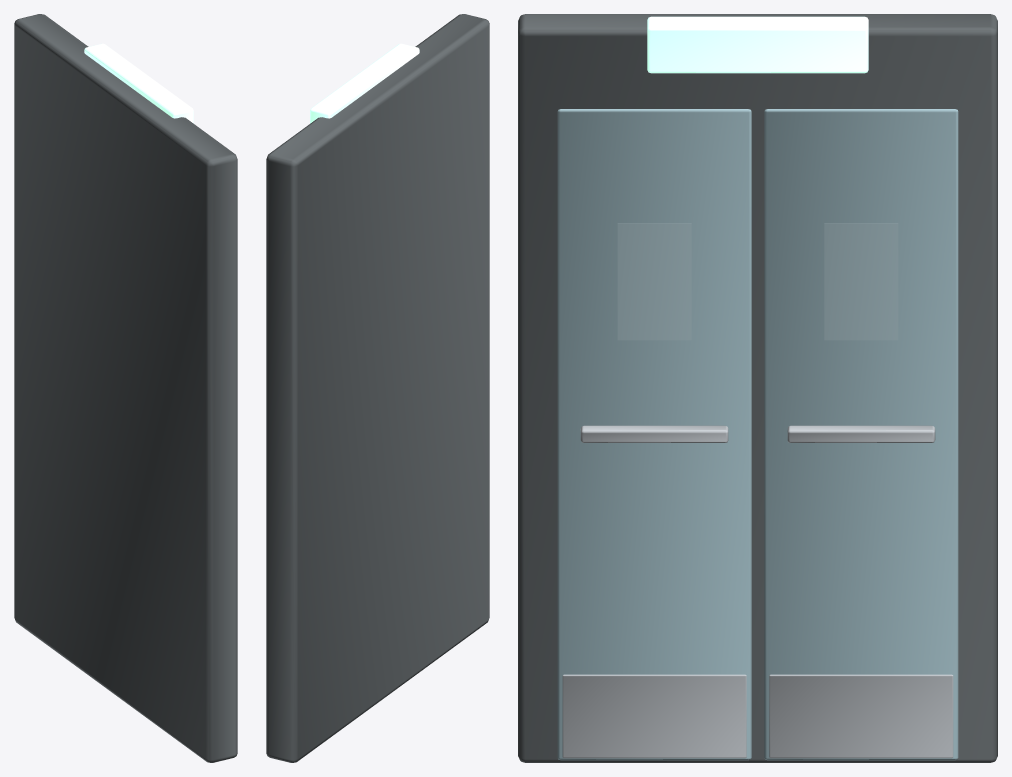
File: puerta.glb
The picture shows the model from 3 angles, left to right: view 1: azimuth 30°, elevation 25°; view 2: azimuth 150°, elevation 25°; view 3: azimuth 270°, elevation 25°; orthographic projection. The views are drawn at different scales.
Parts seen in each view (by area): view 1: marco, cartel_luz; view 2: marco, cartel_luz; view 3: hoja_d_cuerpo, hoja_i_cuerpo, marco, hoja_d_patada, hoja_i_patada, cartel_luz, hoja_d_vidrio, hoja_i_vidrio, hoja_d_barra, hoja_i_barra.
Part boxes in pixels (<box>): marco: <box>14,14,237,762</box>; cartel_luz: <box>84,43,193,123</box>; marco: <box>266,14,489,762</box>; cartel_luz: <box>310,43,419,123</box>; hoja_d_cuerpo: <box>764,109,958,760</box>; hoja_i_cuerpo: <box>557,109,751,760</box>; marco: <box>518,14,997,762</box>; hoja_d_patada: <box>769,674,953,758</box>; hoja_i_patada: <box>562,674,746,758</box>; cartel_luz: <box>647,16,868,73</box>; hoja_d_vidrio: <box>824,223,897,339</box>; hoja_i_vidrio: <box>618,223,691,339</box>; hoja_d_barra: <box>787,425,935,442</box>; hoja_i_barra: <box>580,425,728,442</box>.
Size of the model in its own units: 0.16 by 2.22 by 1.3.
